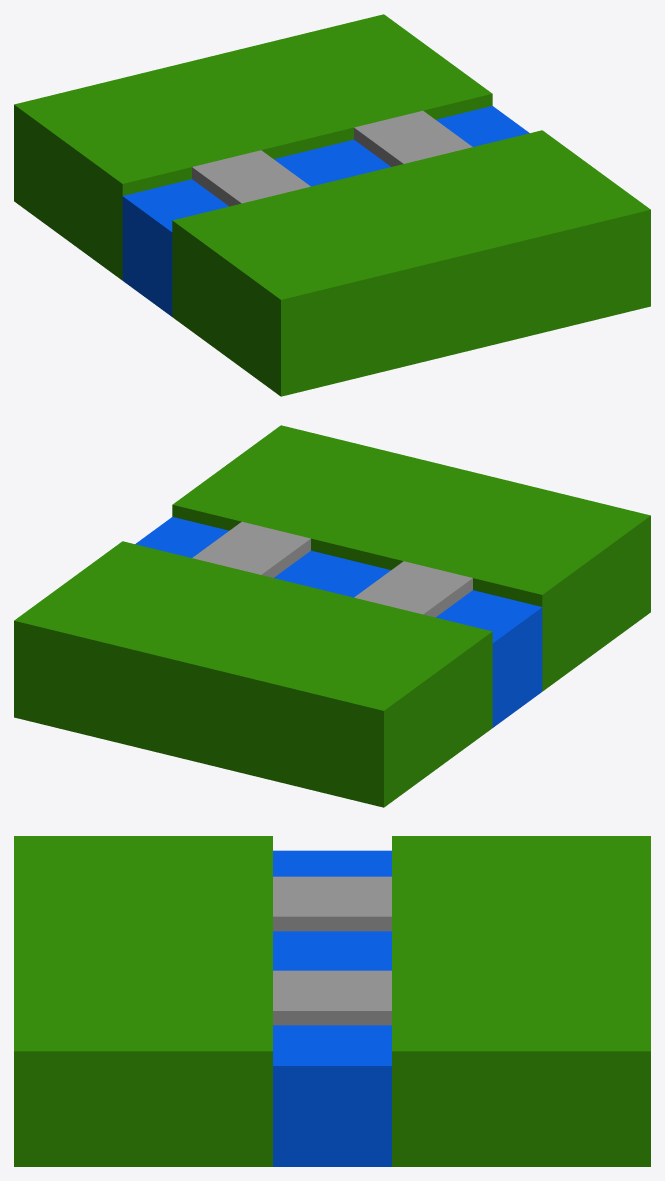
Rendered from battlefield.fbx.
3 renders of one model, top to bottom at view 1: azimuth 30°, elevation 25°; view 2: azimuth 150°, elevation 25°; view 3: azimuth 270°, elevation 25°, orthographic. The views are drawn at different scales.
Parts seen in each view (by area): view 1: BattleField; view 2: BattleField; view 3: BattleField.
Boxes of the visible parts, x1,y1,x2,y2 form: BattleField: [14, 14, 650, 396]; BattleField: [14, 425, 650, 807]; BattleField: [14, 836, 650, 1166].
Bounding box in the file's own units: 1600 × 400 × 2000.
